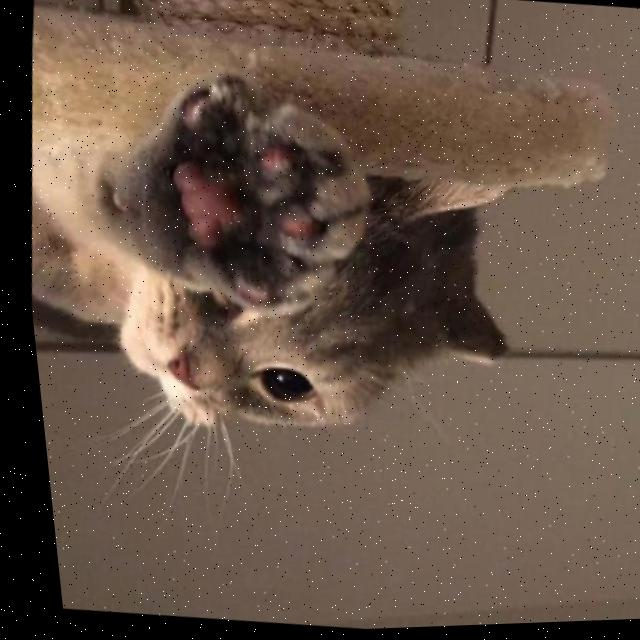Cats: (11, 60, 551, 483)
